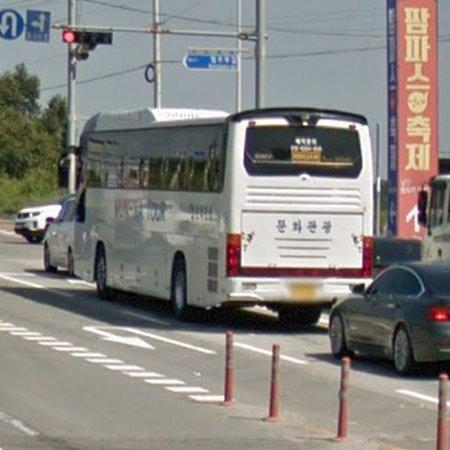buses: (63, 107, 374, 324)
